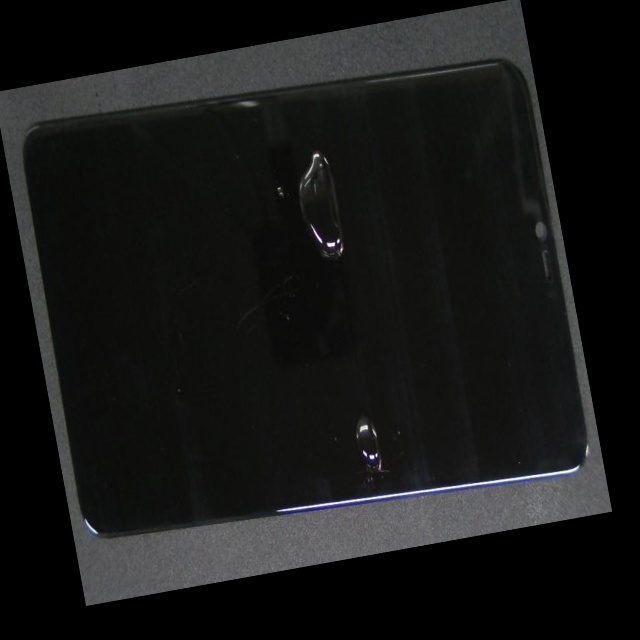oil: (182, 181, 529, 578), (162, 140, 517, 376)
